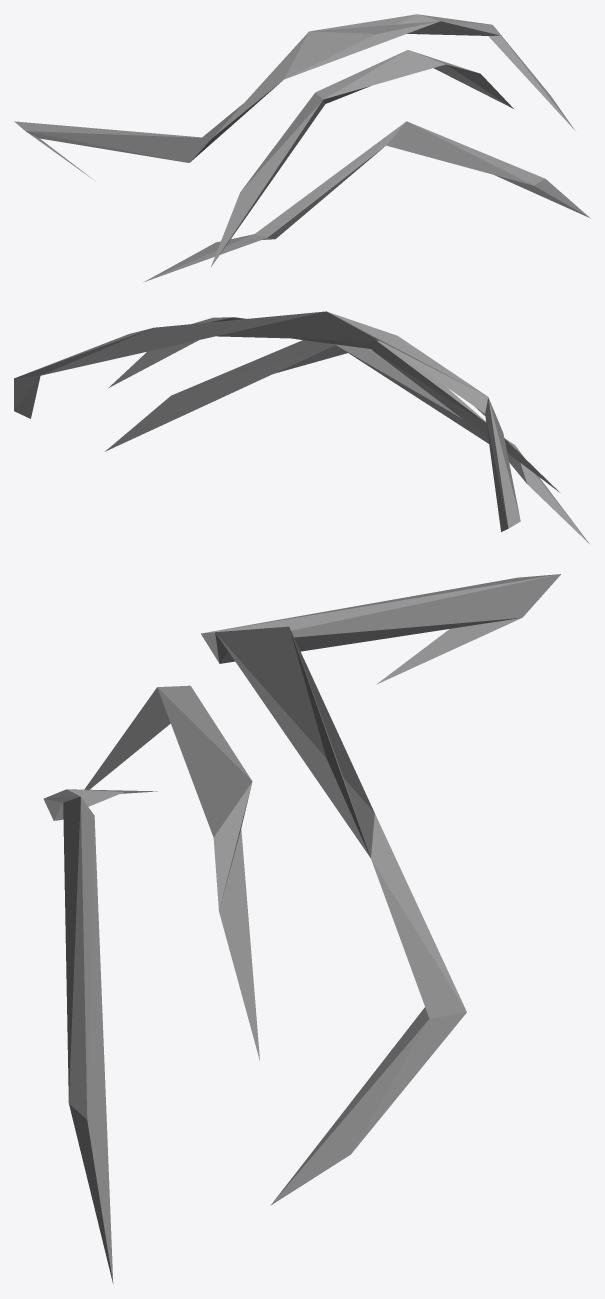
Rendered from combover.fbx.
3 views of the same model, one above another, from view 1: azimuth 30°, elevation 25°; view 2: azimuth 150°, elevation 25°; view 3: azimuth 270°, elevation 25° (orthographic). The views are drawn at different scales.
Visible parts, largest first — view 1: hair; view 2: hair; view 3: hair.
Boxes of the visible parts, x1=… form: hair: x1=14, y1=14, x2=590, y2=282; hair: x1=14, y1=311, x2=589, y2=543; hair: x1=43, y1=574, x2=560, y2=1283.
Size of the model in its own units: 0.1567 by 0.0652 by 0.0718.
1 material, 1 textured.
